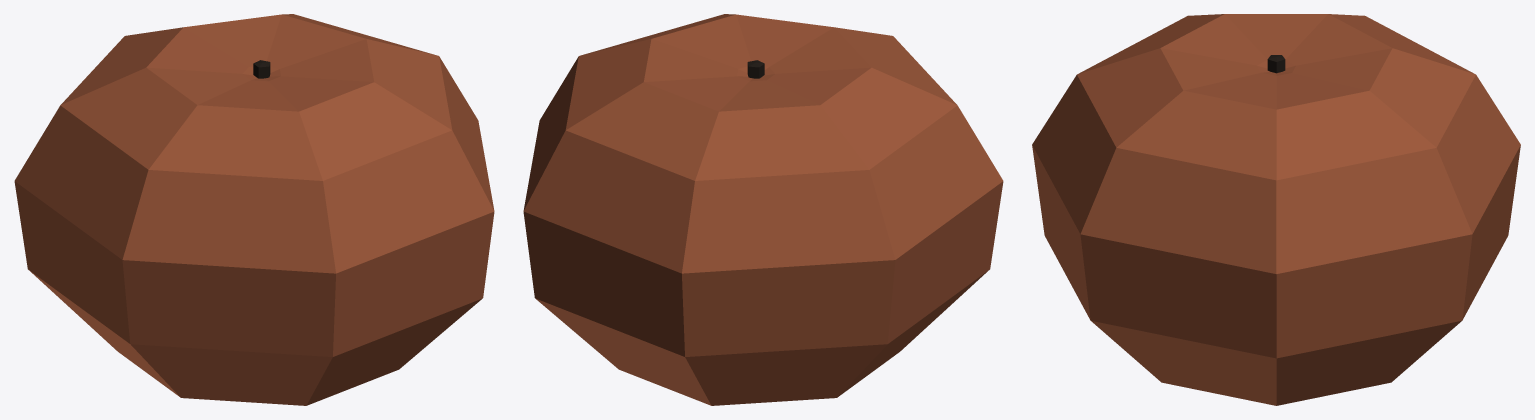
The picture shows the model from 3 angles, left to right: view 1: azimuth 30°, elevation 25°; view 2: azimuth 150°, elevation 25°; view 3: azimuth 270°, elevation 25°; orthographic projection.
Visible parts, largest first — view 1: juzi; view 2: juzi; view 3: juzi.
Boxes of the visible parts, left/top/right/bottom form: juzi: left=14, top=14, right=494, bottom=405; juzi: left=523, top=14, right=1003, bottom=405; juzi: left=1032, top=14, right=1520, bottom=405.
Size of the model in its own units: 6.37 by 4.51 by 6.53.
